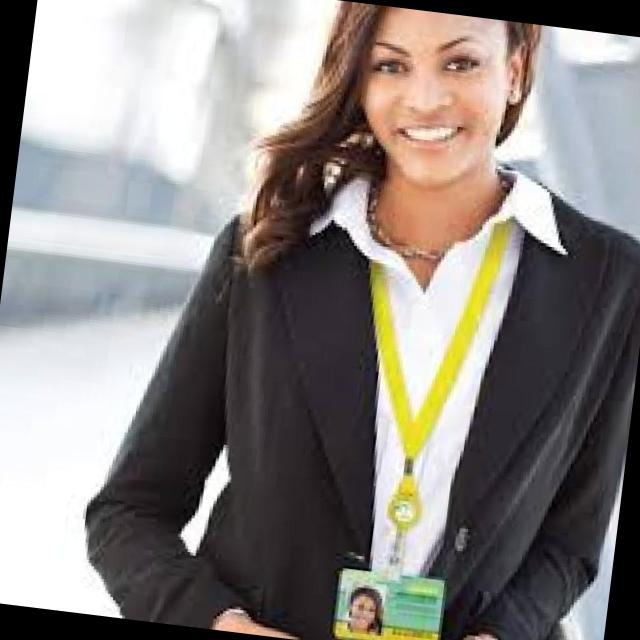id_card: (333, 211, 513, 640)
